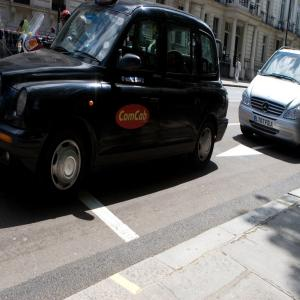Vehicle-registration-plate: (255, 116, 274, 128)
